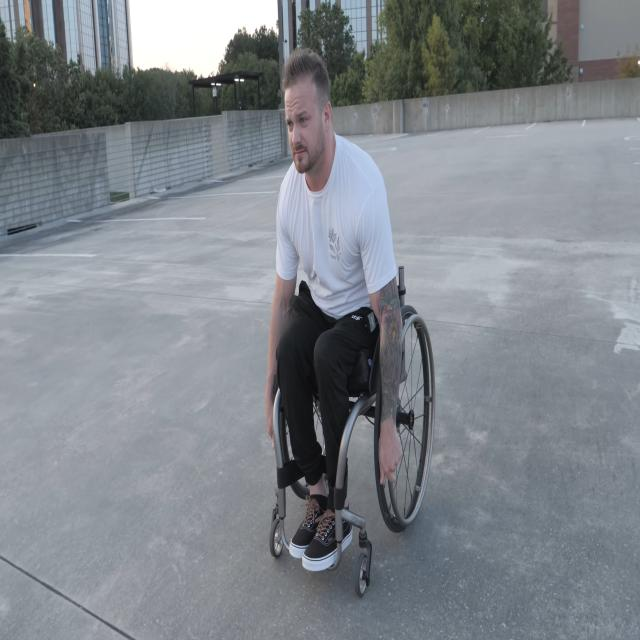wheelchairs: (266, 225, 436, 598)
